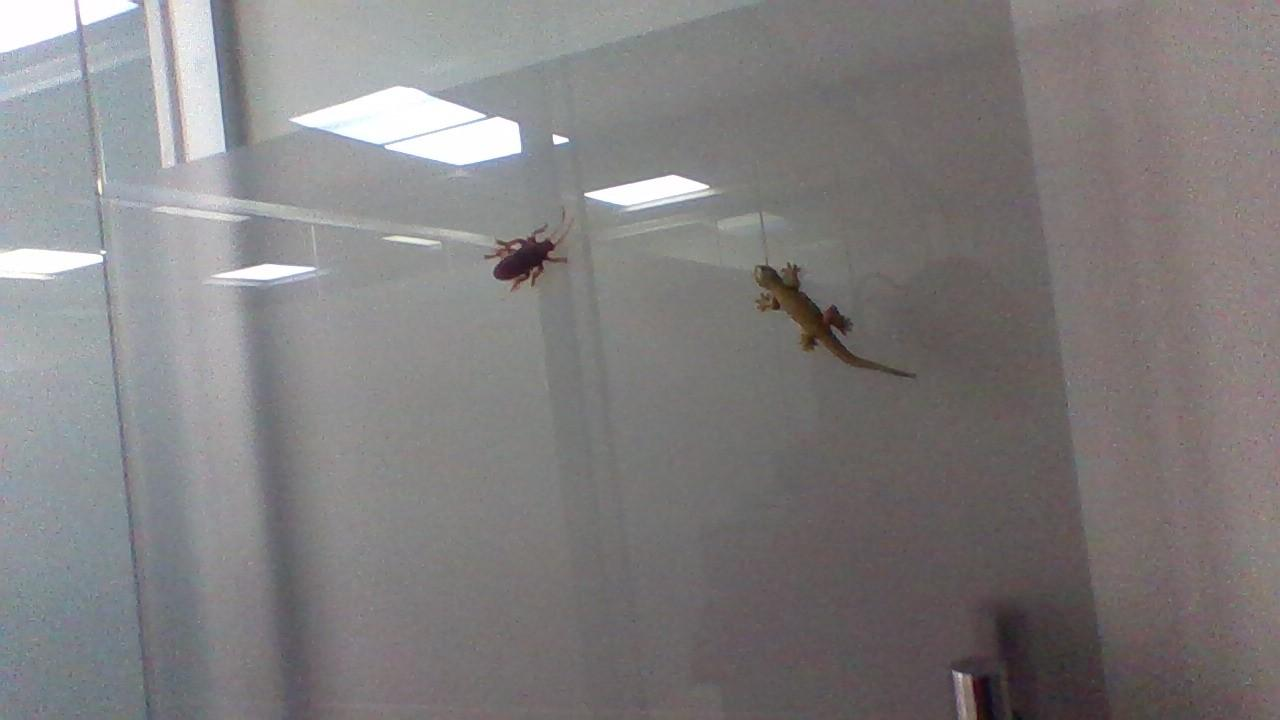lizard: (740, 246, 912, 391), (483, 212, 568, 302)
